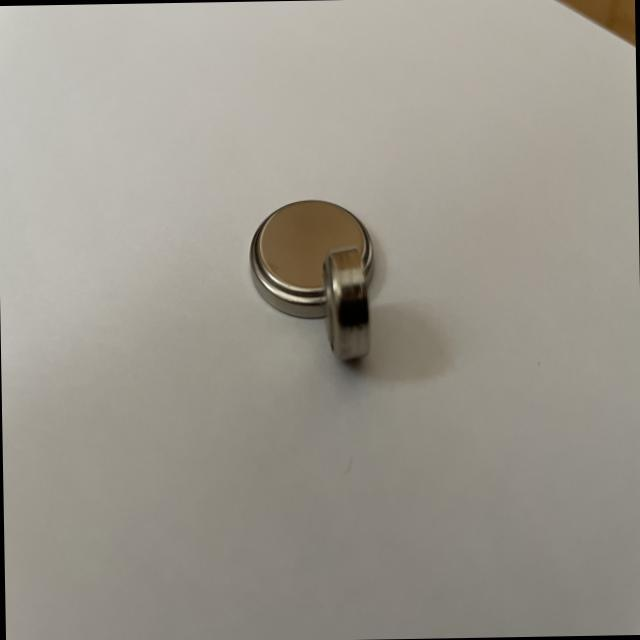COIN: (247, 197, 377, 321), (317, 245, 373, 362)
